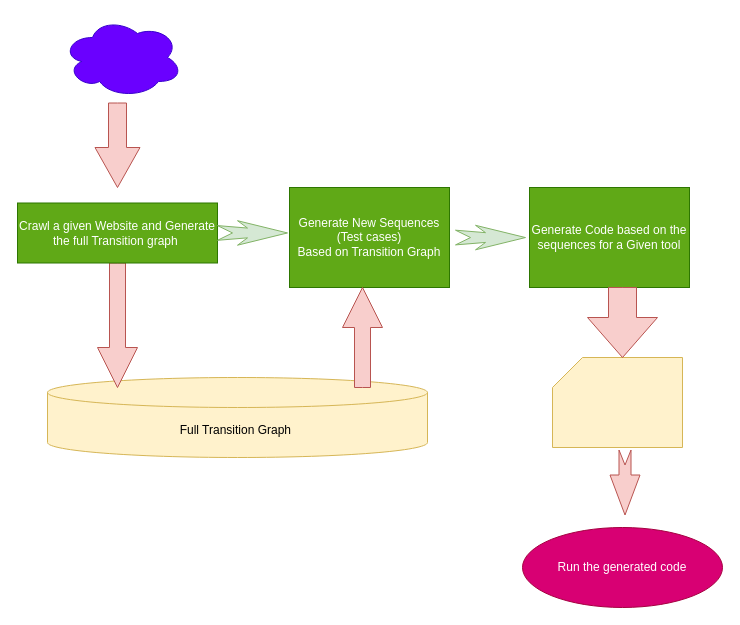
The diagram is 740 pixels wide and 625 high, and some of its shapes have lost their labels. Each missing label, with the box of its shape:
Generate Tool Specific code for automating each Test case: (552, 356, 682, 448)
Internet: (62, 16, 182, 98)
